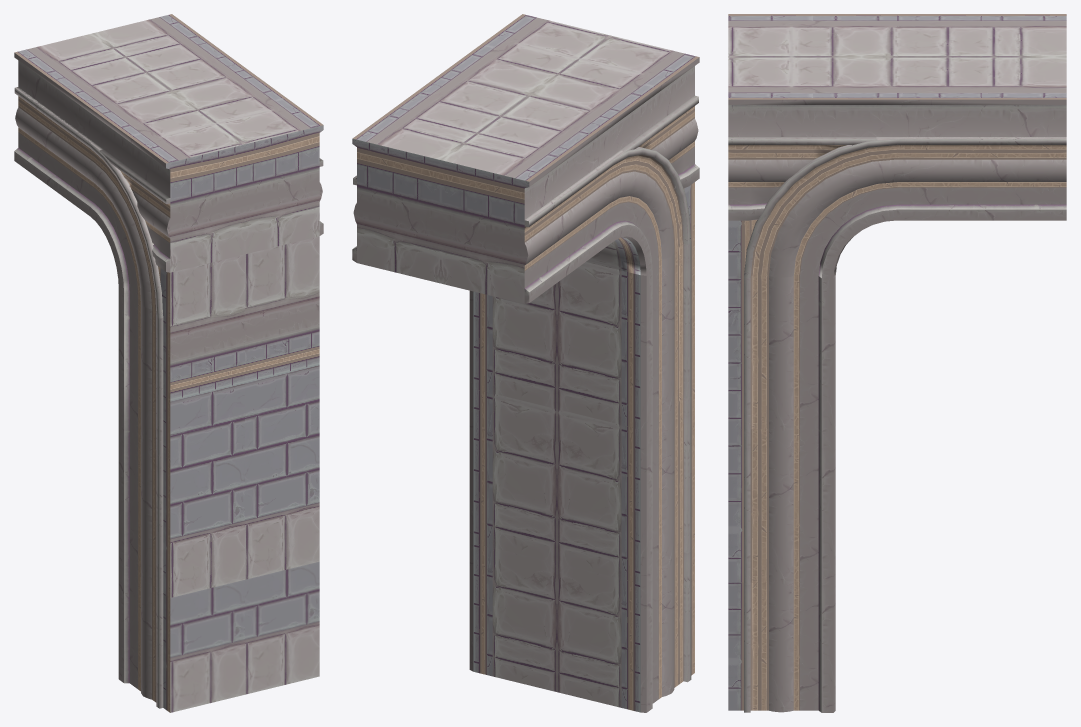
Rendered from EN_P_L1BridgePillar_01_19G4_01_19.fbx.
3 renders of one model, left to right at view 1: azimuth 30°, elevation 25°; view 2: azimuth 150°, elevation 25°; view 3: azimuth 270°, elevation 25°, orthographic. The views are drawn at different scales.
Visible parts, largest first — view 1: EN_P_L1BridgePillar_01_19G4_01_20; view 2: EN_P_L1BridgePillar_01_19G4_01_20; view 3: EN_P_L1BridgePillar_01_19G4_01_20.
Boxes of the visible parts, bbox=[...] form: EN_P_L1BridgePillar_01_19G4_01_20: bbox=[14, 14, 323, 712]; EN_P_L1BridgePillar_01_19G4_01_20: bbox=[352, 14, 699, 712]; EN_P_L1BridgePillar_01_19G4_01_20: bbox=[728, 14, 1066, 712].
Bounding box in the file's own units: 12 × 40 × 20.
Materials: 1 (1 with a texture image).
